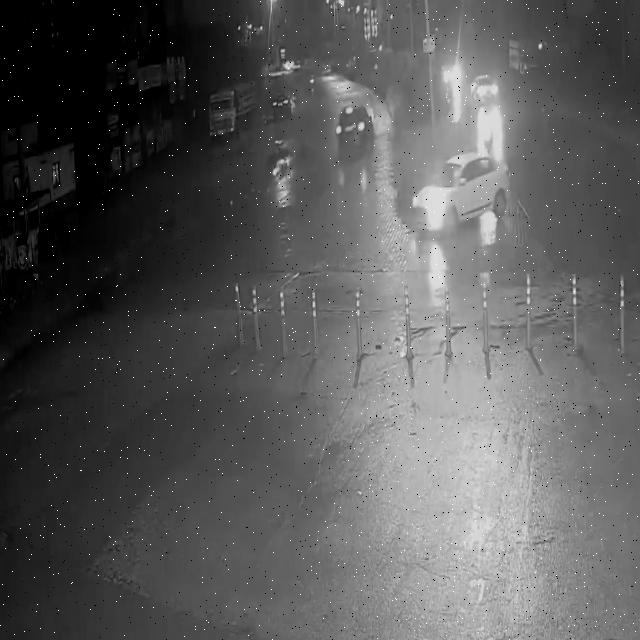accident: (259, 129, 307, 188)
